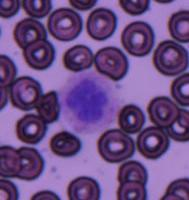N: (60, 70, 120, 132)
